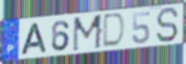5: (131, 11, 151, 45)
6: (51, 20, 71, 53)
A: (19, 22, 48, 56)
D: (101, 12, 127, 50)
M: (71, 13, 105, 54)
S: (155, 7, 180, 44)
